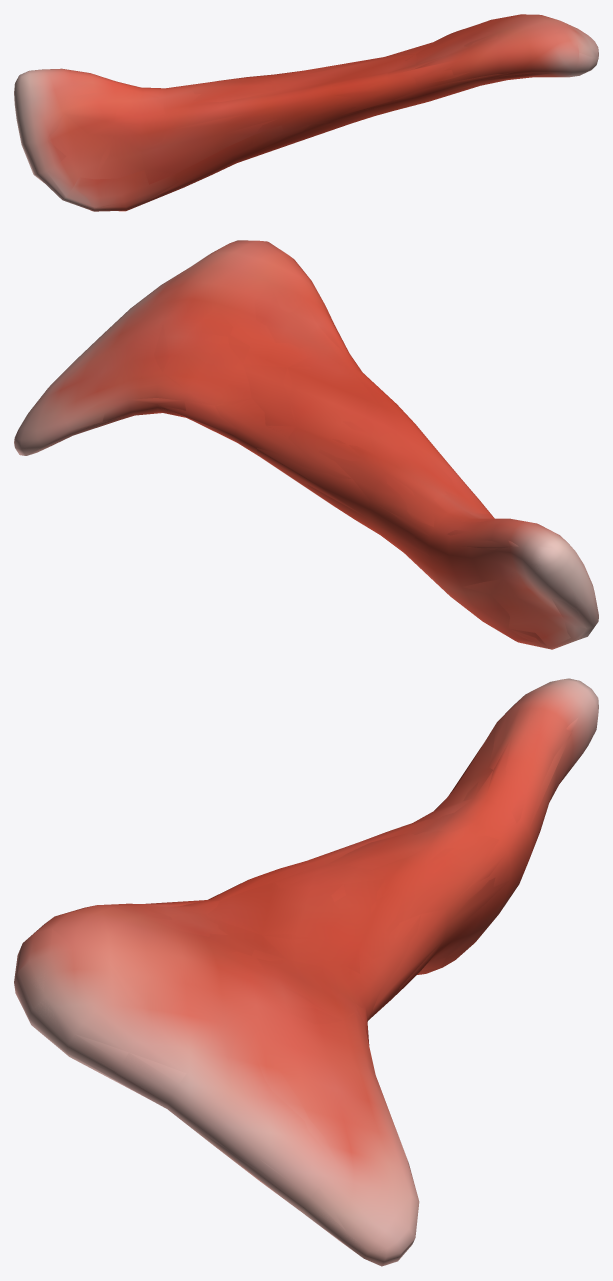
Rendered from R Gemelli.fbx.
The picture shows the model from 3 angles, top to bottom: view 1: azimuth 30°, elevation 25°; view 2: azimuth 150°, elevation 25°; view 3: azimuth 270°, elevation 25°; orthographic projection. The views are drawn at different scales.
Visible parts, largest first — view 1: R Gemelli, R Gemelli low; view 2: R Gemelli, R Gemelli low; view 3: R Gemelli, R Gemelli low.
Part boxes in pixels (x1,y1,x2,y2): R Gemelli: (14, 14, 598, 211); R Gemelli low: (16, 19, 598, 209); R Gemelli: (14, 240, 598, 649); R Gemelli low: (15, 240, 597, 649); R Gemelli: (14, 678, 598, 1266); R Gemelli low: (15, 680, 598, 1264).
Size of the model in its own units: 15.28 by 5.02 by 8.27.
